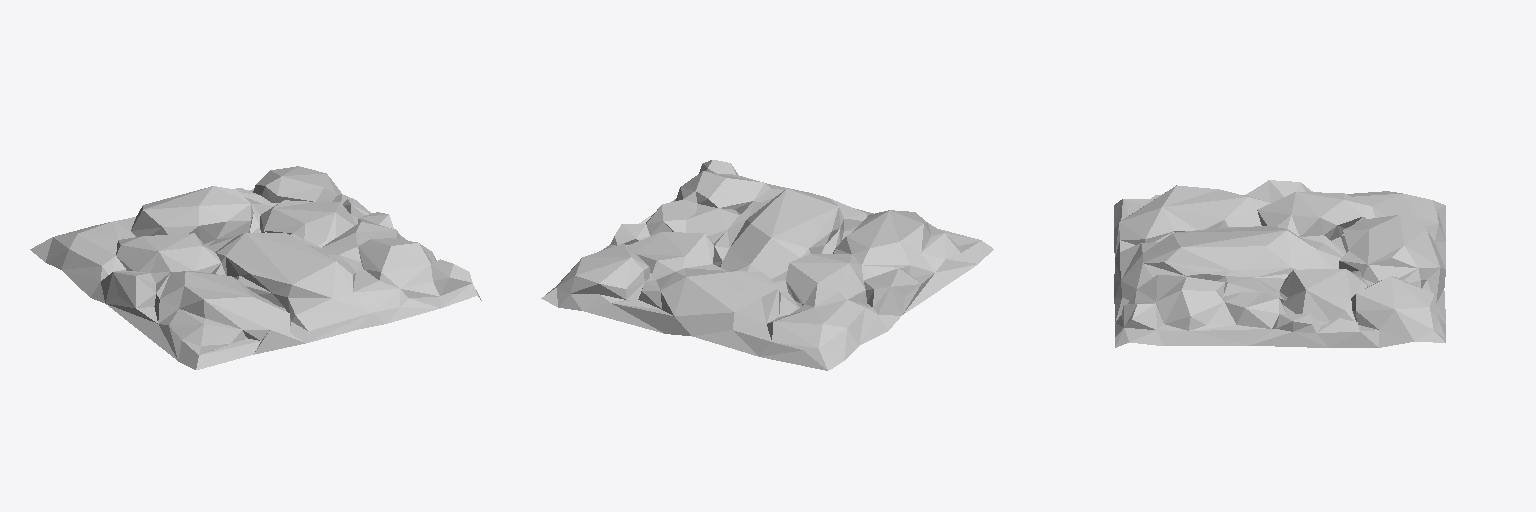
File: stone_tile_3.obj
The picture shows the model from 3 angles: view 1: azimuth 30°, elevation 25°; view 2: azimuth 150°, elevation 25°; view 3: azimuth 270°, elevation 25°; orthographic projection.
Parts seen in each view (by area): view 1: Tile3_Lo.002_Cube.018; view 2: Tile3_Lo.002_Cube.018; view 3: Tile3_Lo.002_Cube.018.
Part boxes in pixels (x1,y1,x2,y2): Tile3_Lo.002_Cube.018: (30, 166, 481, 369); Tile3_Lo.002_Cube.018: (541, 160, 993, 370); Tile3_Lo.002_Cube.018: (1114, 180, 1445, 347).
Size of the model in its own units: 2.01 by 0.3133 by 2.